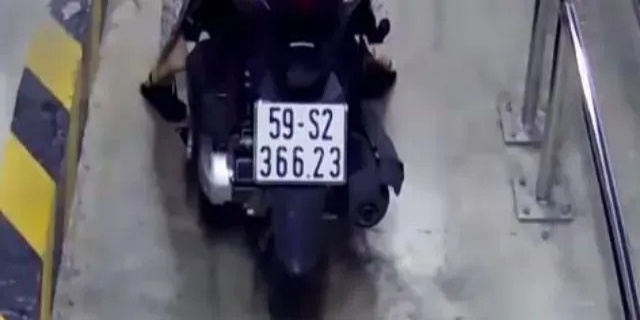bien_so: (256, 101, 344, 183)
